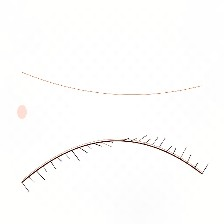foreign_body_visible: (130, 77, 149, 92)
